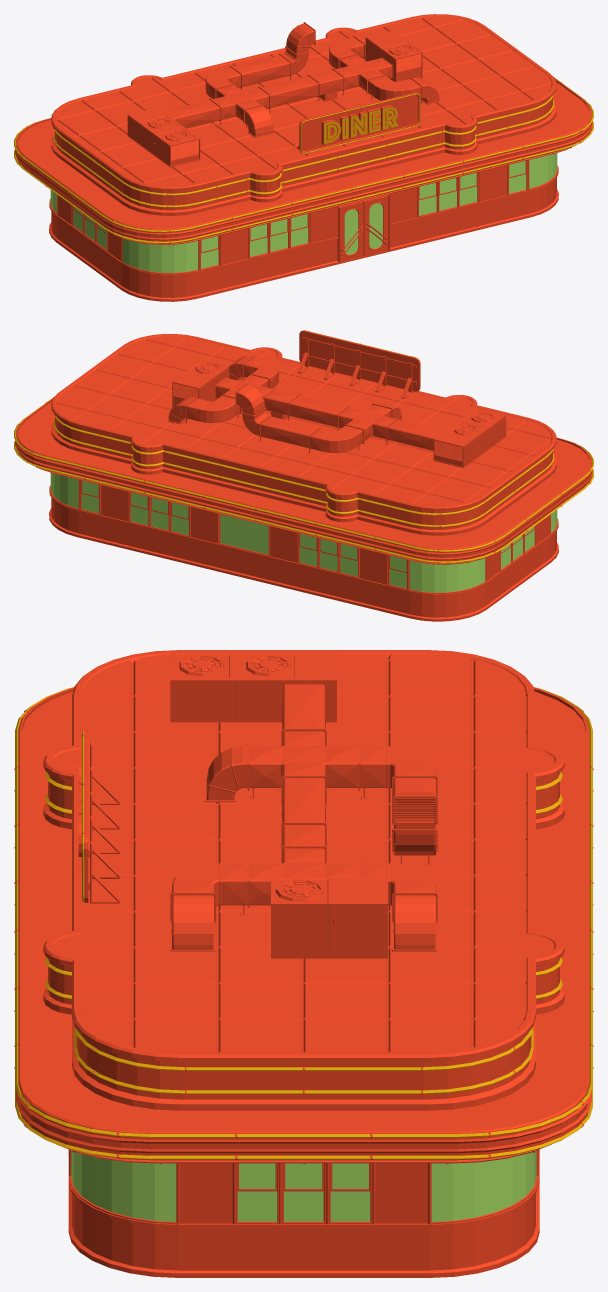
Rendered from SM_Diner_City.fbx.
3 renders of one model, top to bottom at view 1: azimuth 30°, elevation 25°; view 2: azimuth 150°, elevation 25°; view 3: azimuth 270°, elevation 25°, orthographic. The views are drawn at different scales.
Parts seen in each view (by area): view 1: SM_Diner_City_Base, SM_Diner_City_Door_L, SM_Diner_City_Door_R; view 2: SM_Diner_City_Base; view 3: SM_Diner_City_Base.
Boxes of the visible parts, box(x1,y1,x2,y2) form: SM_Diner_City_Base: box(14, 14, 593, 301); SM_Diner_City_Door_L: box(363, 195, 388, 256); SM_Diner_City_Door_R: box(339, 201, 363, 262); SM_Diner_City_Base: box(14, 330, 593, 621); SM_Diner_City_Base: box(14, 650, 593, 1277).
Bounding box in the file's own units: 19.6 × 6.16 × 10.46.
